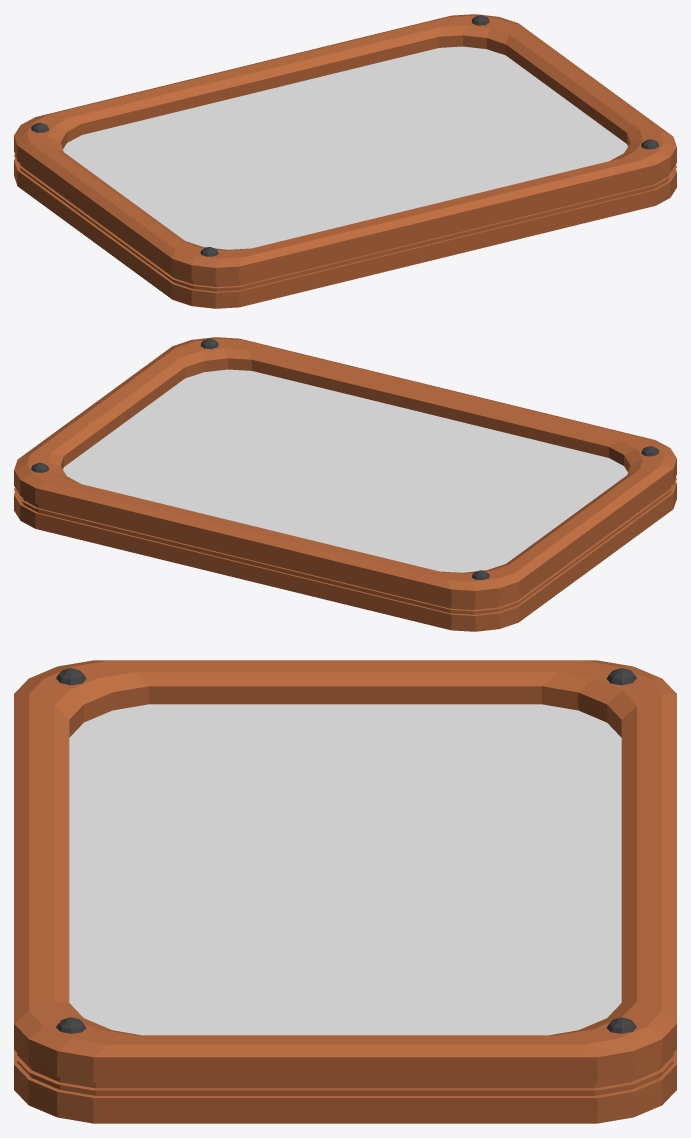
File: Card.glb
The picture shows the model from 3 angles, top to bottom: view 1: azimuth 30°, elevation 25°; view 2: azimuth 150°, elevation 25°; view 3: azimuth 270°, elevation 25°; orthographic projection. The views are drawn at different scales.
Parts seen in each view (by area): view 1: Cube; view 2: Cube; view 3: Cube.
Part boxes in pixels (x1,y1,x2,y2): Cube: (14,14,676,308); Cube: (14,337,676,631); Cube: (14,660,676,1123).
Size of the model in its own units: 3.4 by 0.3814 by 2.4.
